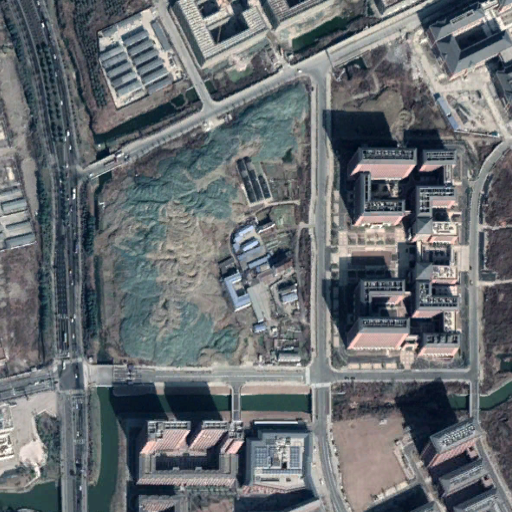cw: (95, 81, 315, 371)
